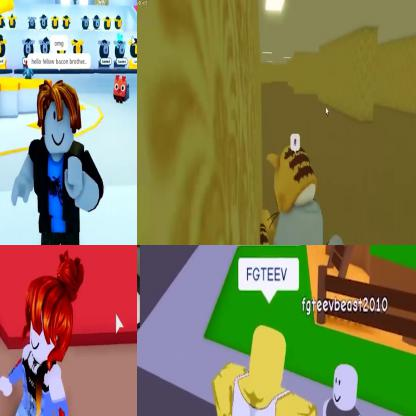Roblox-Avatar: (12, 80, 106, 245), (1, 249, 86, 416), (212, 326, 319, 416), (261, 146, 350, 245), (315, 364, 372, 416)
